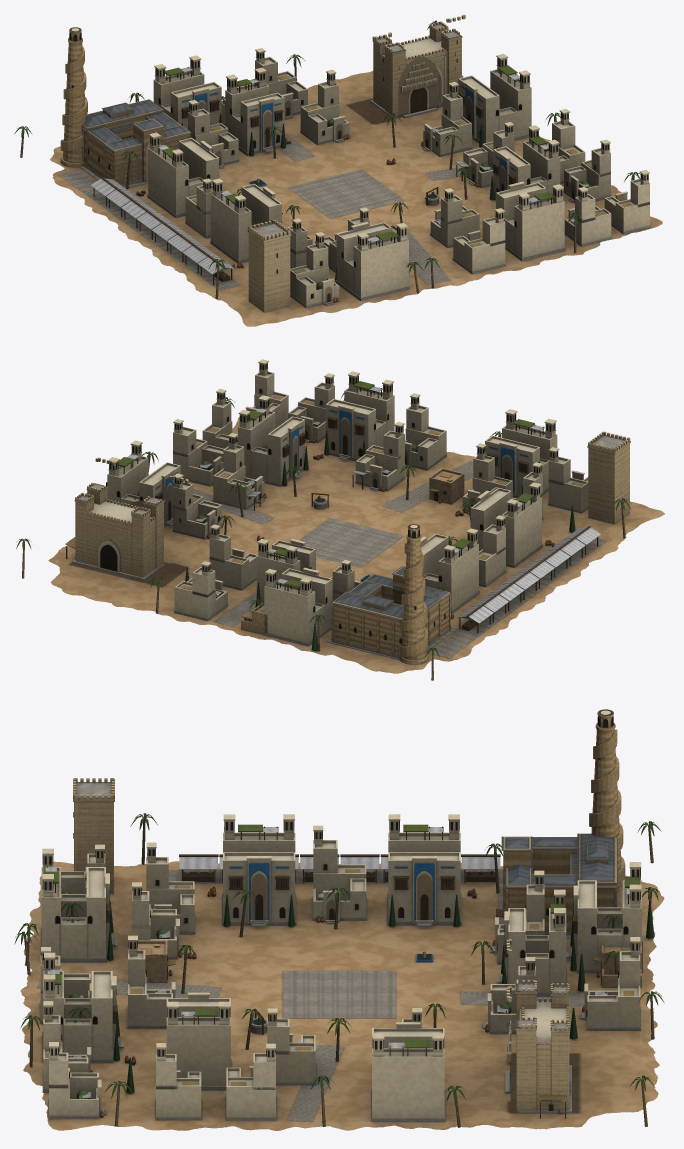
The model's file is kingdoms-town-big-b-levant.glb.
3 renders of one model, top to bottom at view 1: azimuth 30°, elevation 25°; view 2: azimuth 150°, elevation 25°; view 3: azimuth 270°, elevation 25°, orthographic. The views are drawn at different scales.
Visible parts, largest first — view 1: LOD0; view 2: LOD0; view 3: LOD0.
Part boxes in pixels (x1,y1,x2,y2): LOD0: [14, 14, 662, 326]; LOD0: [16, 359, 664, 680]; LOD0: [14, 709, 664, 1130].
Size of what is drawn, in the model's own units: 8.12 by 2.4 by 8.14.
3 materials, 3 textured.
